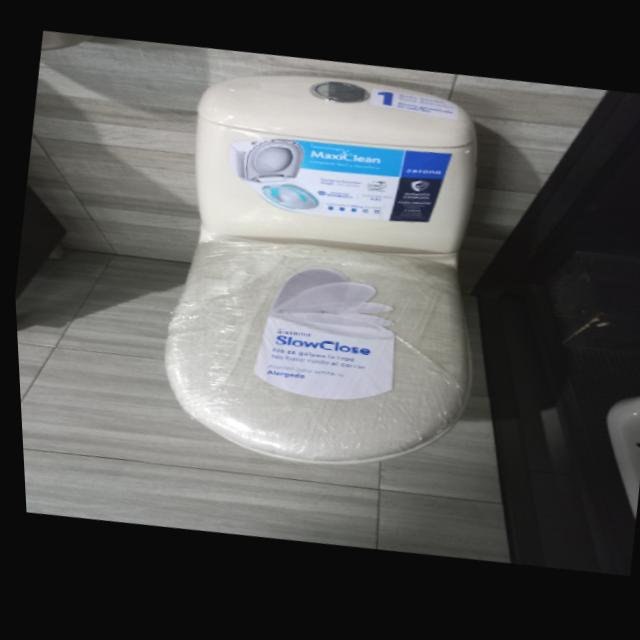toilet: (132, 52, 516, 496)
